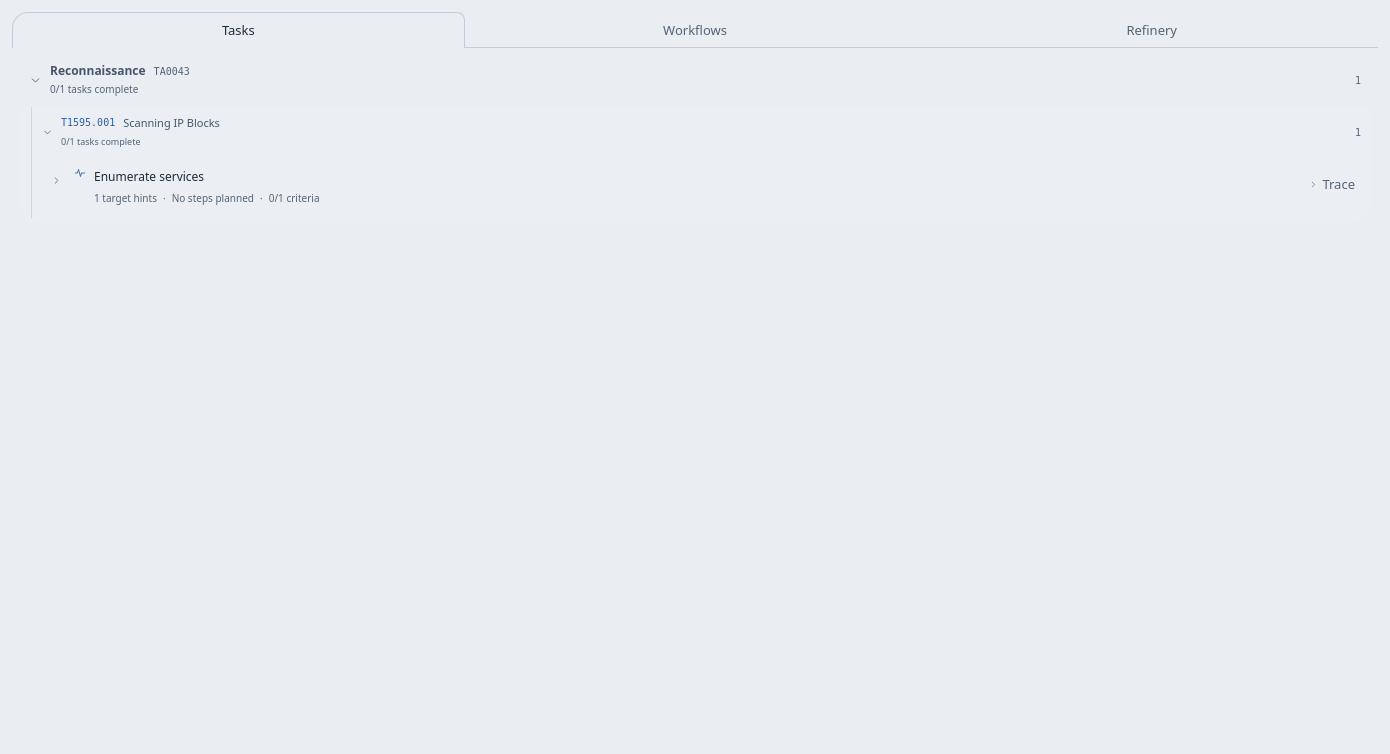
Test: TaskTreeTab › selects tasks and collapses tactic groups
What coordinates should you click on to do the following:
click the text "Enumerate services"
I would click on:
 (149, 176)
Its box is [94,166,204,186].
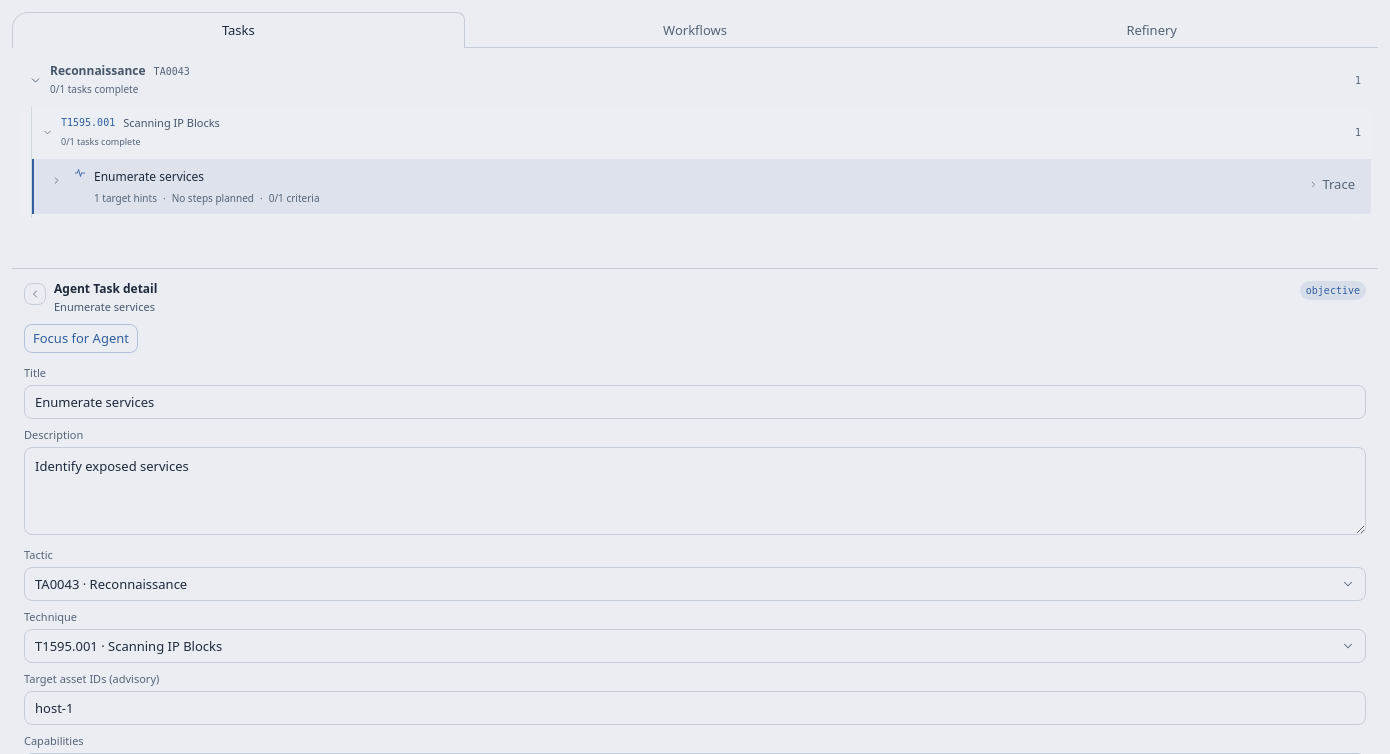
What coordinates should you click on to do the following:
click the text "Reconnaissance"
I would click on:
 (98, 71)
Its box is [50,63,146,79].
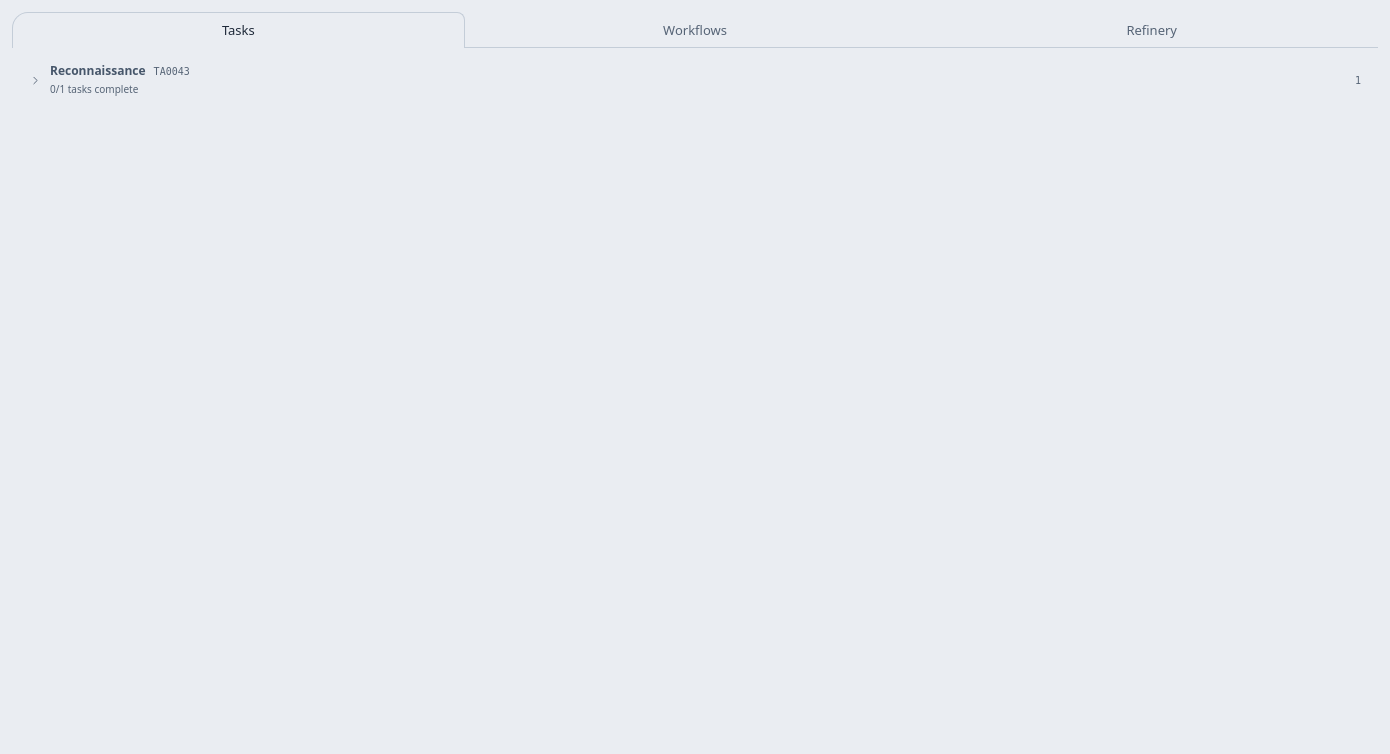
expect the button "Enumerate services" is gone: met
